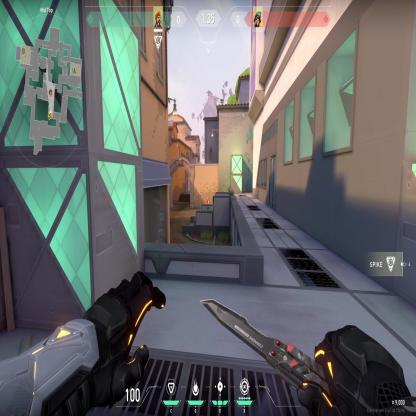enemy: (204, 196, 210, 204)
